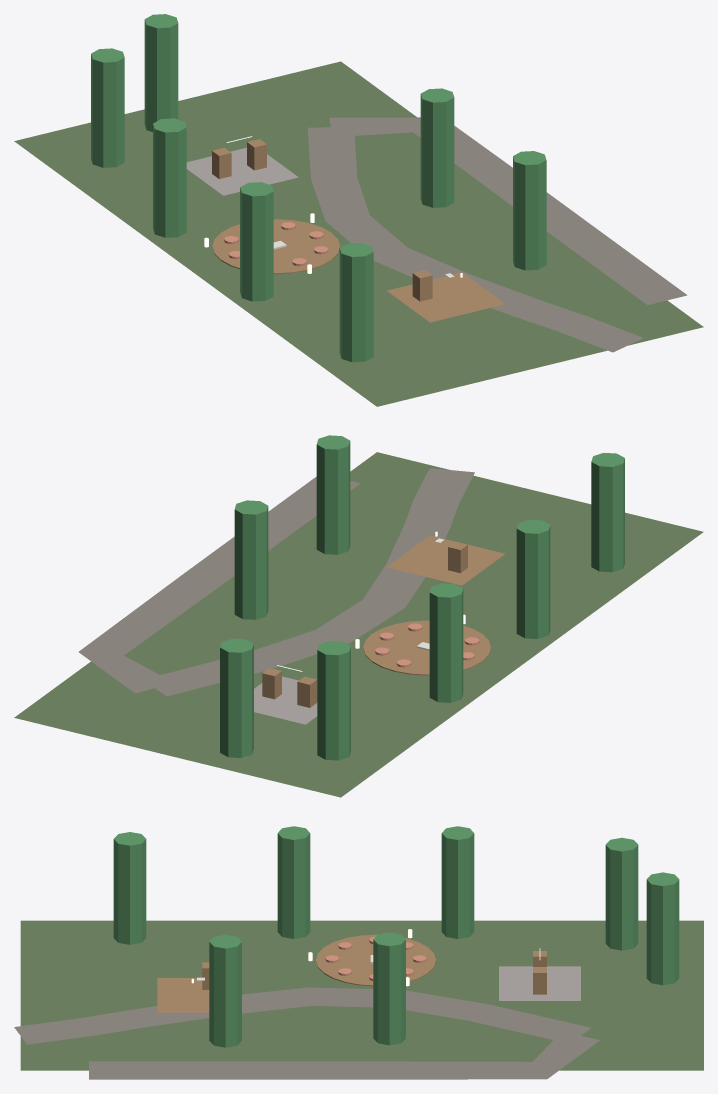
The model's file is human.glb.
The picture shows the model from 3 angles, top to bottom: view 1: azimuth 30°, elevation 25°; view 2: azimuth 150°, elevation 25°; view 3: azimuth 270°, elevation 25°; orthographic projection. The views are drawn at different scales.
Parts seen in each view (by area): view 1: env_human_ground, env_human_forest, env_human_path, env_human_exit_path, env_human_facilitation_space, env_human_coaching_space, env_human_mediation_space, int_mediation_chairs, int_facilitation_circle; view 2: env_human_ground, env_human_forest, env_human_path, env_human_exit_path, env_human_facilitation_space, env_human_coaching_space, env_human_mediation_space, int_mediation_chairs, int_facilitation_circle, int_coaching_chair; view 3: env_human_ground, env_human_forest, env_human_exit_path, env_human_path, env_human_facilitation_space, env_human_mediation_space, env_human_coaching_space, int_mediation_chairs, int_facilitation_circle.
Part boxes in pixels (box(x1,y1,x2,y2)): env_human_ground: box(14, 61, 703, 406); env_human_forest: box(91, 14, 546, 362); env_human_path: box(307, 127, 643, 352); env_human_exit_path: box(329, 117, 687, 305); env_human_facilitation_space: box(212, 219, 340, 274); env_human_coaching_space: box(387, 272, 505, 322); env_human_mediation_space: box(186, 147, 298, 195); int_mediation_chairs: box(212, 139, 266, 178); int_facilitation_circle: box(224, 222, 328, 266); env_human_ground: box(14, 452, 703, 797); env_human_forest: box(220, 435, 624, 760); env_human_path: box(143, 468, 474, 696); env_human_exit_path: box(78, 476, 360, 693); env_human_facilitation_space: box(363, 620, 490, 675); env_human_coaching_space: box(387, 535, 505, 585); env_human_mediation_space: box(254, 676, 317, 724); int_mediation_chairs: box(262, 668, 317, 707); int_facilitation_circle: box(375, 623, 479, 667); int_coaching_chair: box(448, 541, 467, 573); env_human_ground: box(20, 920, 703, 1070); env_human_forest: box(113, 826, 679, 1047); env_human_exit_path: box(89, 1033, 599, 1079); env_human_path: box(14, 987, 590, 1044); env_human_facilitation_space: box(316, 934, 435, 986); env_human_mediation_space: box(499, 966, 580, 1000); env_human_coaching_space: box(157, 978, 209, 1012); int_mediation_chairs: box(533, 951, 546, 994); int_facilitation_circle: box(325, 936, 426, 980).
Size of the model in its own units: 13.8 by 4 by 25.24.
